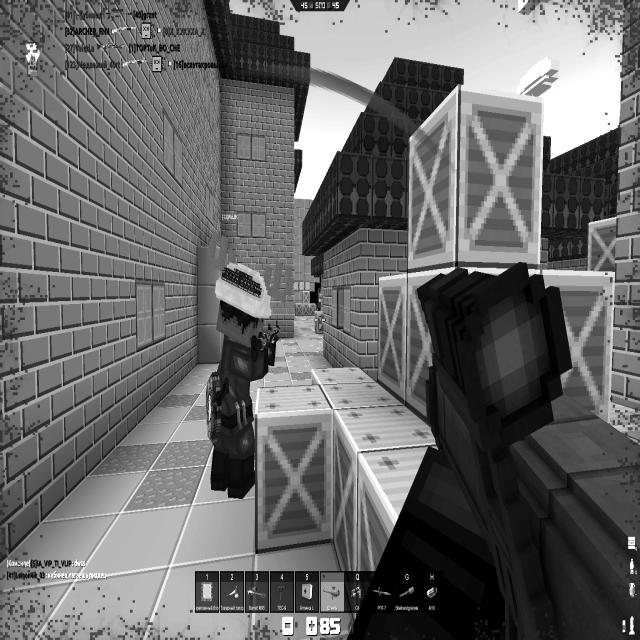Head: (214, 261, 272, 347), (316, 288, 321, 302)
Player: (205, 257, 277, 500)
